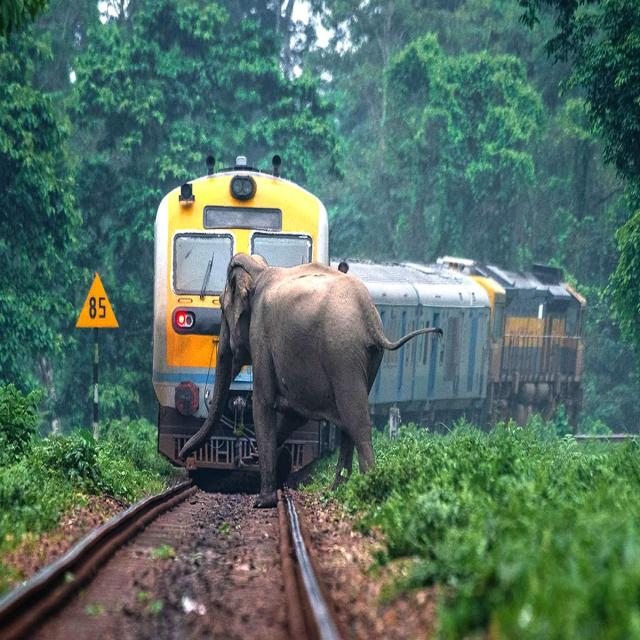Elephant: (173, 243, 394, 499)
